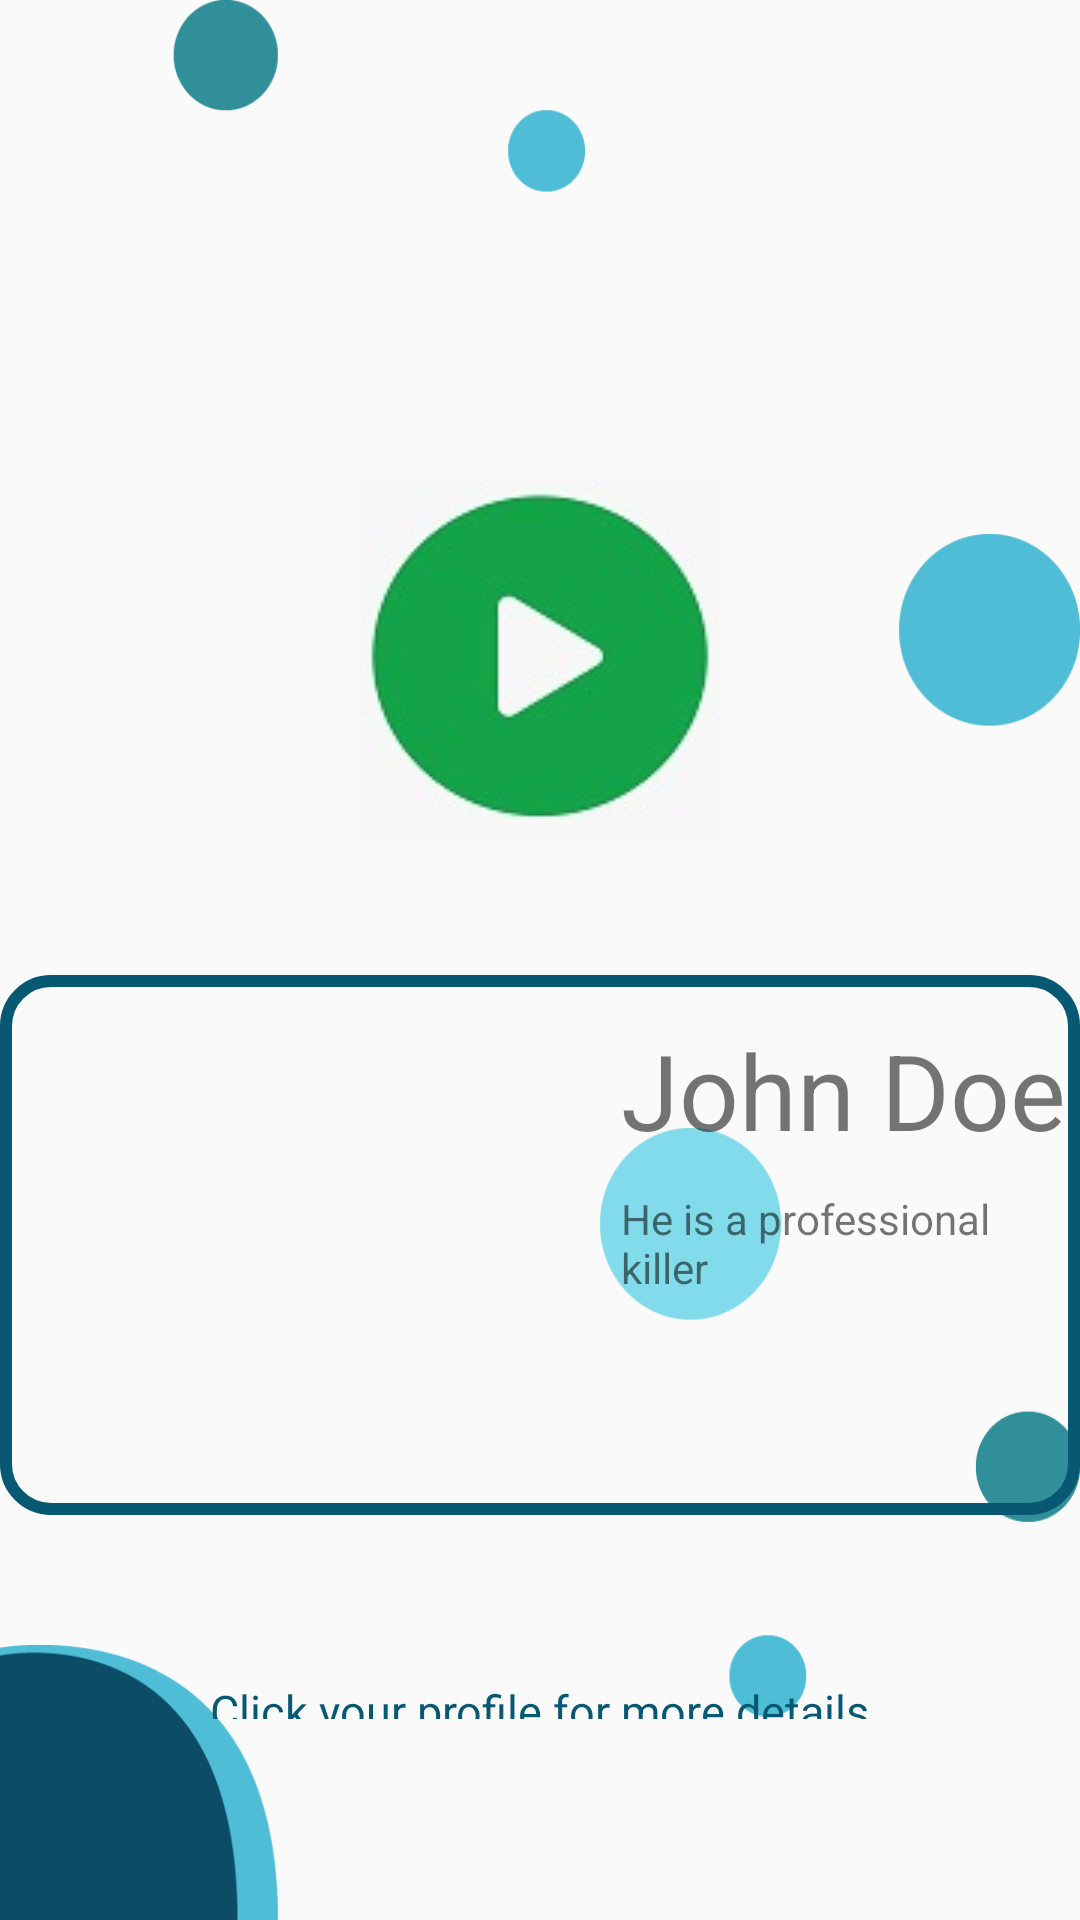

Icons on this 1080×1920 Android screen, each with the point to tap as (x,y):
play: (540,655)
